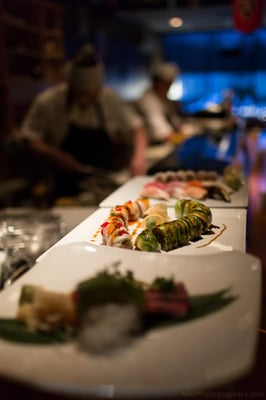curry: (135, 229, 161, 252)
sushi: (3, 249, 263, 399)
